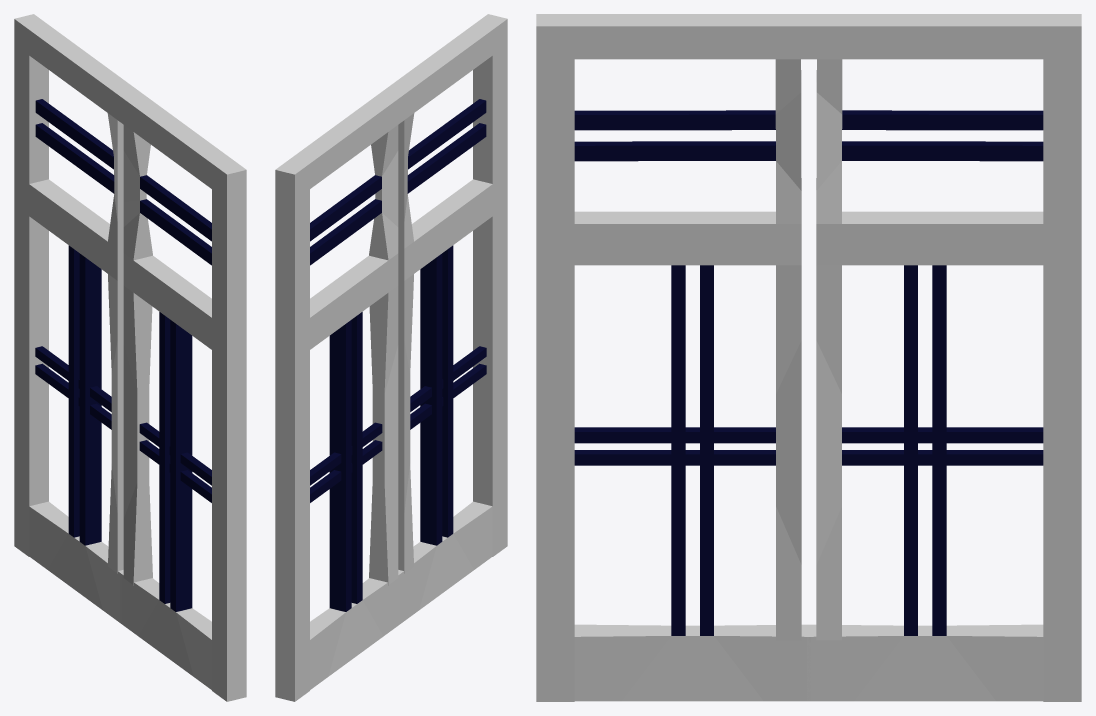
Rendered from window.fbx.
The picture shows the model from 3 angles, left to right: view 1: azimuth 30°, elevation 25°; view 2: azimuth 150°, elevation 25°; view 3: azimuth 270°, elevation 25°; orthographic projection. The views are drawn at different scales.
Parts seen in each view (by area): view 1: Cube; view 2: Cube; view 3: Cube.
Part boxes in pixels (box(x1,y1,x2,y2)): Cube: box(14, 14, 246, 701); Cube: box(275, 14, 507, 701); Cube: box(536, 14, 1081, 701).
Size of the model in its own units: 64 by 1640 by 1200.
